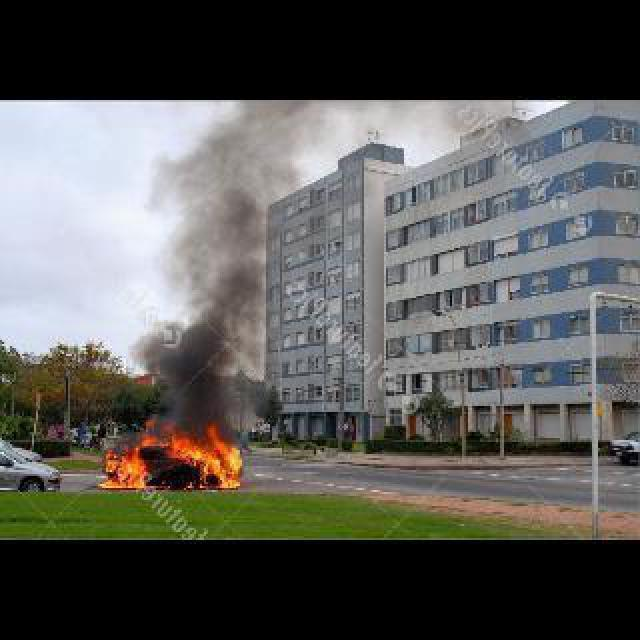Fire: (121, 434, 241, 487)
Smoke: (140, 103, 306, 430)
